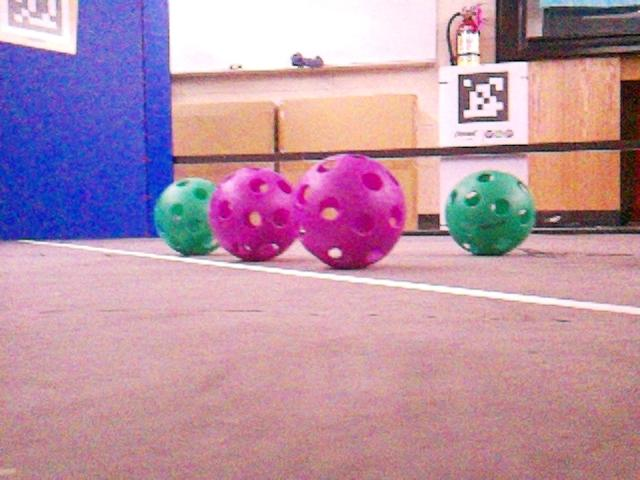Green: (443, 169, 535, 254), (151, 178, 221, 255)
Purple: (292, 152, 406, 266), (207, 165, 302, 261)
